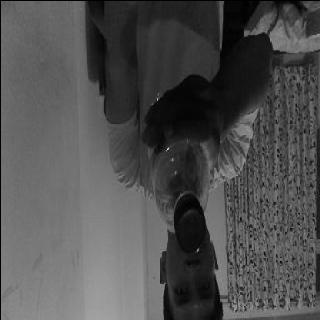plastic_bottles: (139, 95, 205, 252)
